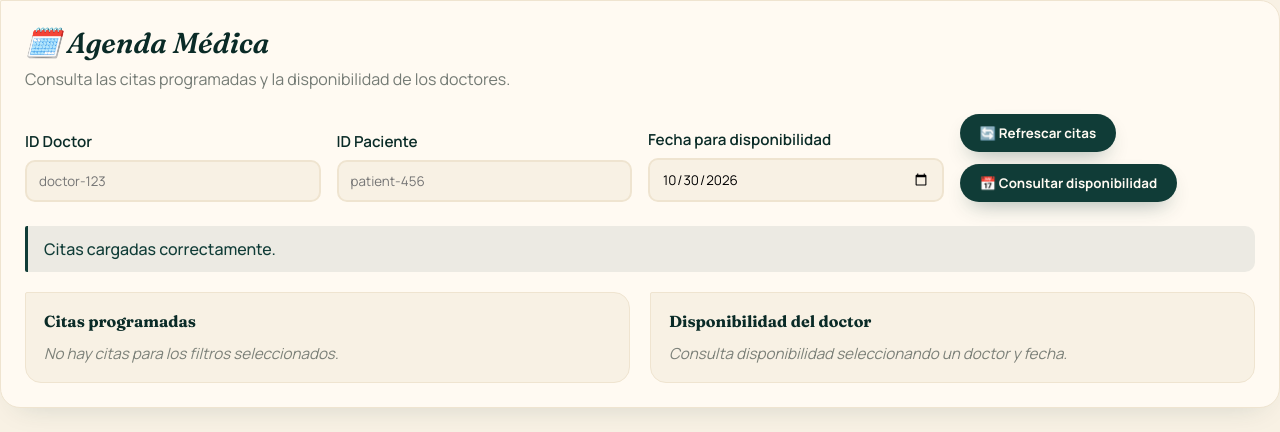
AppointmentCalendar component › requiere doctorId para consultar disponibilidad
The image size is (1280, 432).
Click the button "📅 Consultar disponibilidad" at (1068,183), box [960, 164, 1177, 202]
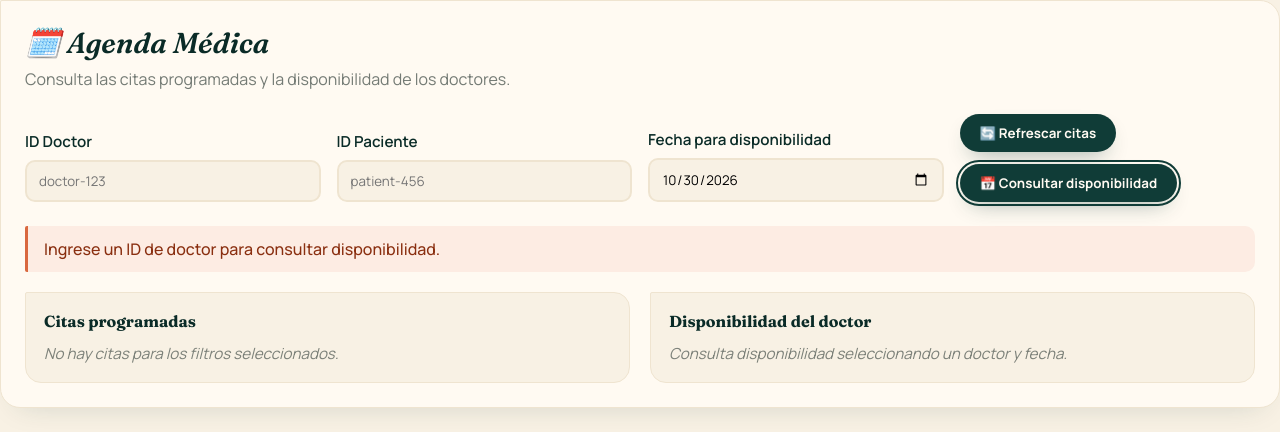
Expected: the text "Ingrese un ID de doctor para consultar disponibilidad." is shown, [25, 226, 1255, 272]
